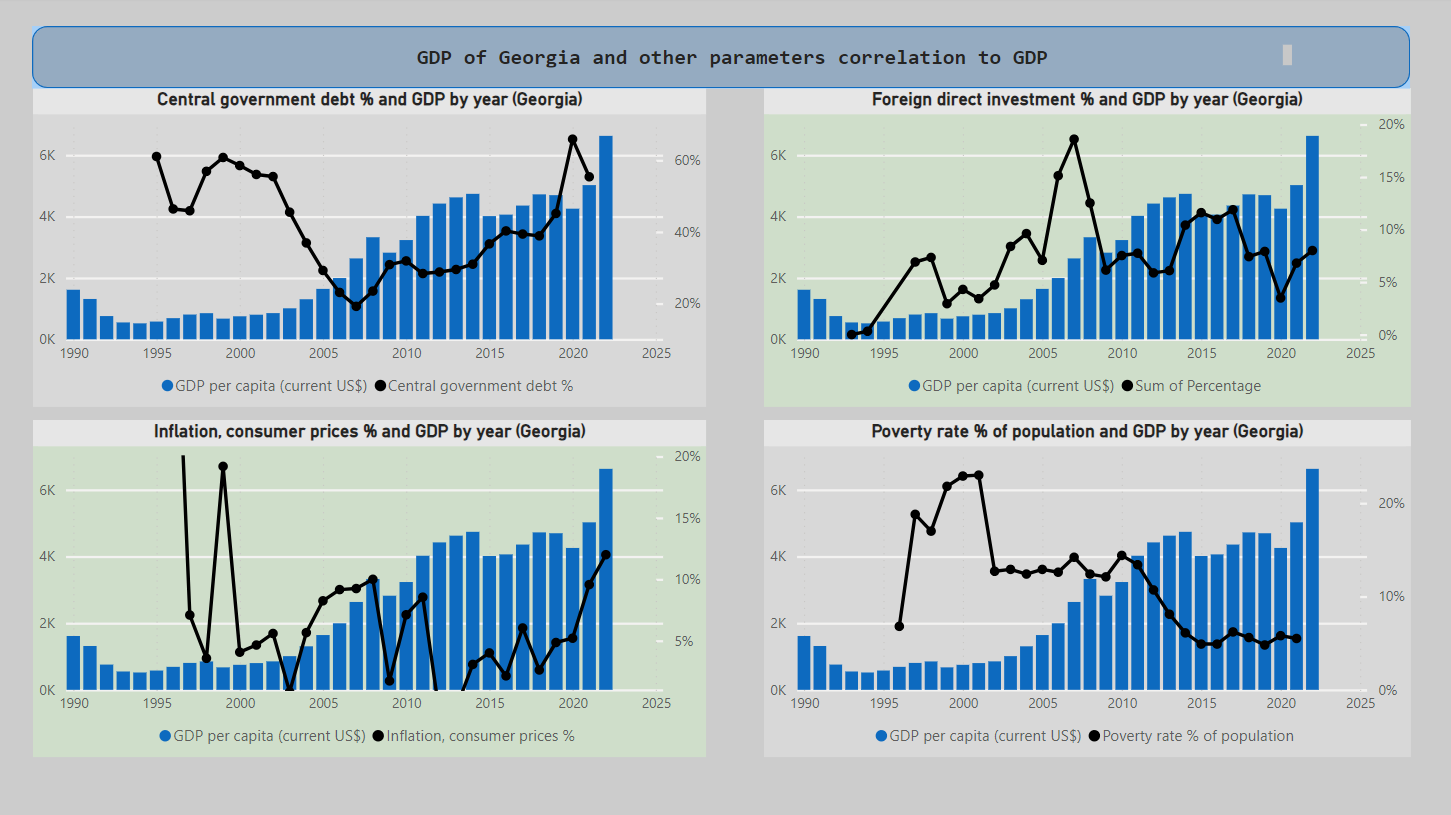

The page's visual inventory and layout, read from the dashboard file:
{"tool":"powerbi","page":{"name":"GDP (Current) & parameters","canvas":[1280,720],"ordinal":0},"visuals":[{"type":"lineStackedColumnComboChart","title":"Central government debt % and GDP by year (Georgia)","fields":{"Category":["Sheet1.Year"],"Y2":["1)Measures.Central government debt, total (% of GDP)"],"Y":["1)Measures.GDP per capita (current US$)"]},"box":[31.2,80,591.2,280],"z":0},{"type":"lineStackedColumnComboChart","title":"Foreign direct investment % and GDP by year (Georgia)","fields":{"Category":["Sheet1.Year"],"Y":["1)Measures.GDP per capita (current US$)"],"Y2":["Sum(Foreign direct investment, net inflows (% of GDP).Percentage)"]},"box":[673.8,80,567.5,280],"z":1000},{"type":"lineStackedColumnComboChart","title":"Inflation, consumer prices % and GDP by year (Georgia)","fields":{"Category":["Sheet1.Year"],"Y":["1)Measures.GDP per capita (current US$)"],"Y2":["Sum(Inflation, consumer prices (annual %).Inflation, consumer prices %)"]},"box":[31.2,371.2,591.2,296.2],"z":2000},{"type":"lineStackedColumnComboChart","title":"Poverty rate % of population and GDP by year (Georgia)","fields":{"Category":["Sheet1.Year"],"Y":["1)Measures.GDP per capita (current US$)"],"Y2":["Sum(Poverty rate % of population.Poverty rate % of population)"]},"box":[673.8,371.2,567.5,296.2],"z":3000},{"type":"shape","box":[30.9,25.5,1210,54.5],"z":4000},{"type":"textbox","box":[158.2,37.3,983.6,30],"z":5000}]}

Visuals, with their boxes in screenshot pixels (x1, y1, x2, y2), scaled from the page's 1280x720 canvas onto the 1451x815 screenshot:
"Central government debt % and GDP by year (Georgia)" lineStackedColumnComboChart: left=35, top=91, right=706, bottom=408
"Foreign direct investment % and GDP by year (Georgia)" lineStackedColumnComboChart: left=764, top=91, right=1407, bottom=408
"Inflation, consumer prices % and GDP by year (Georgia)" lineStackedColumnComboChart: left=35, top=420, right=706, bottom=755
"Poverty rate % of population and GDP by year (Georgia)" lineStackedColumnComboChart: left=764, top=420, right=1407, bottom=755
shape: left=35, top=29, right=1407, bottom=91
textbox: left=179, top=42, right=1294, bottom=76
